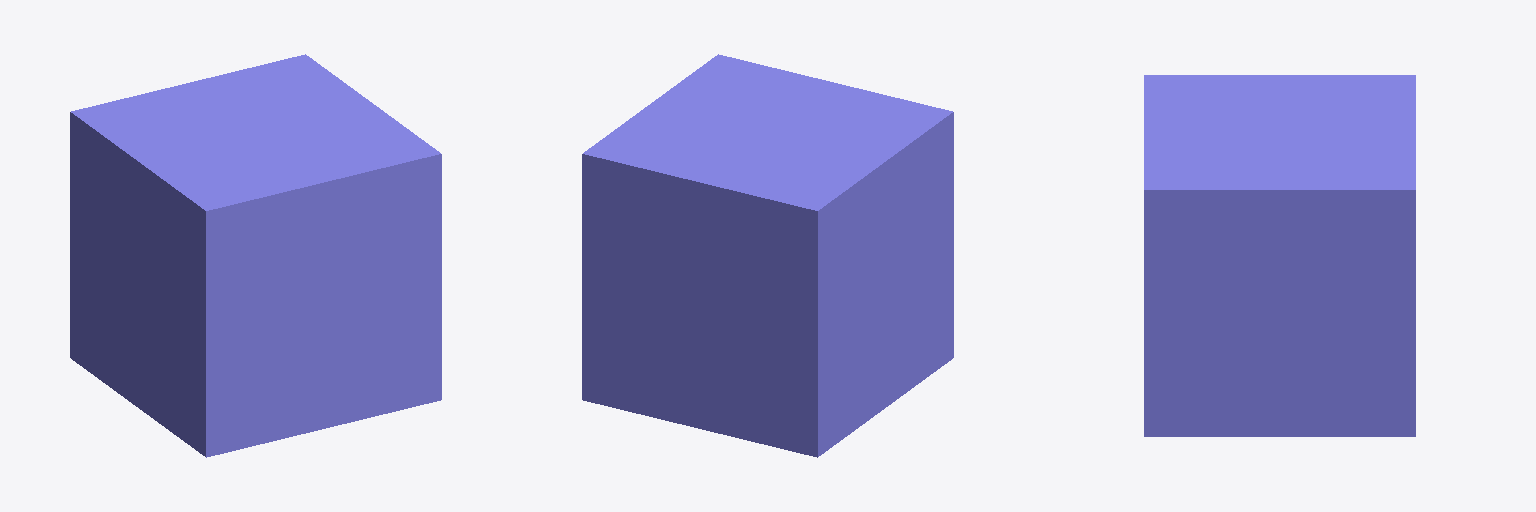
3 renders of one model, left to right at view 1: azimuth 30°, elevation 25°; view 2: azimuth 150°, elevation 25°; view 3: azimuth 270°, elevation 25°, orthographic.
Visible parts, largest first — view 1: Cube; view 2: Cube; view 3: Cube.
Part boxes in pixels (bbox=[...]): Cube: bbox=[70, 54, 441, 457]; Cube: bbox=[582, 54, 953, 457]; Cube: bbox=[1144, 75, 1415, 436].
Size of the model in its own units: 2 by 2 by 2.
Materials: 1 (1 with a texture image).